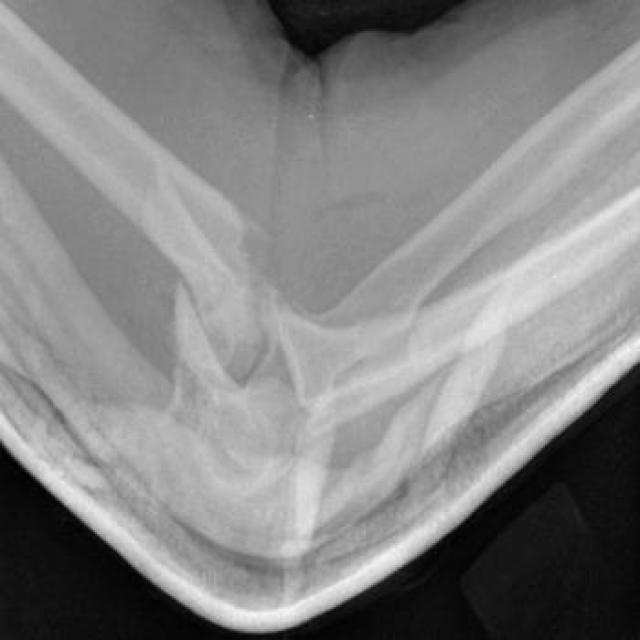fracture: (186, 210, 286, 384)
